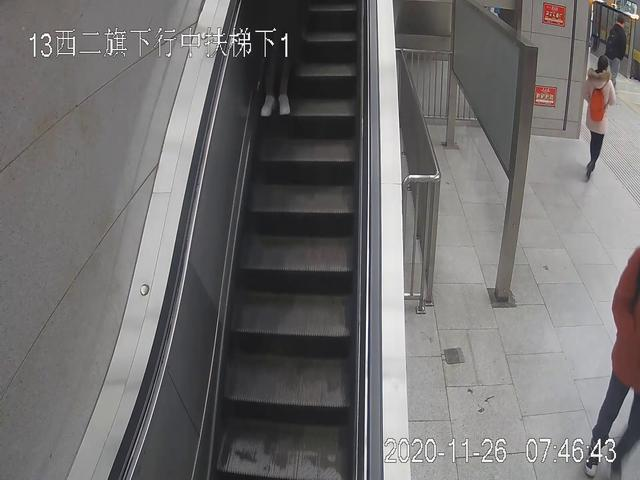person: (581, 56, 617, 183), (603, 14, 629, 96)
